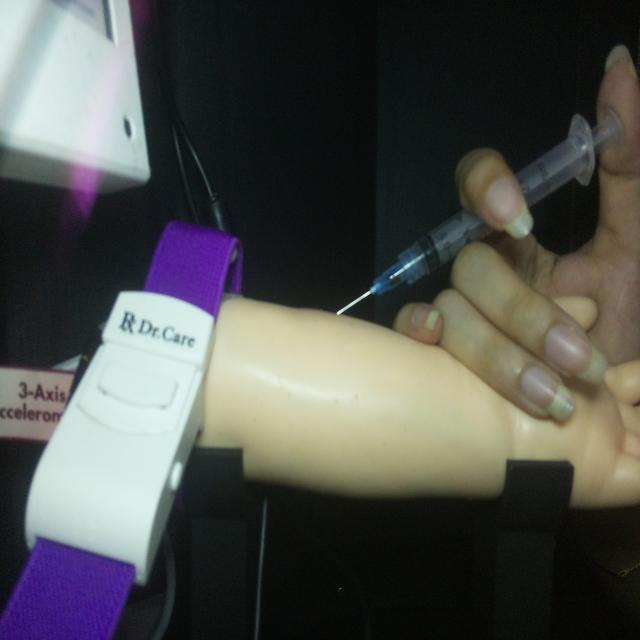22 degrees: (334, 104, 623, 318)
